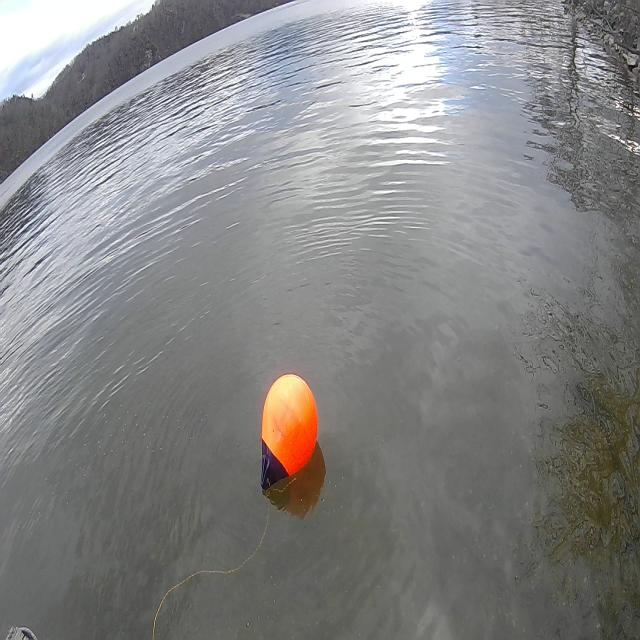Buoy: (260, 369, 320, 480)
